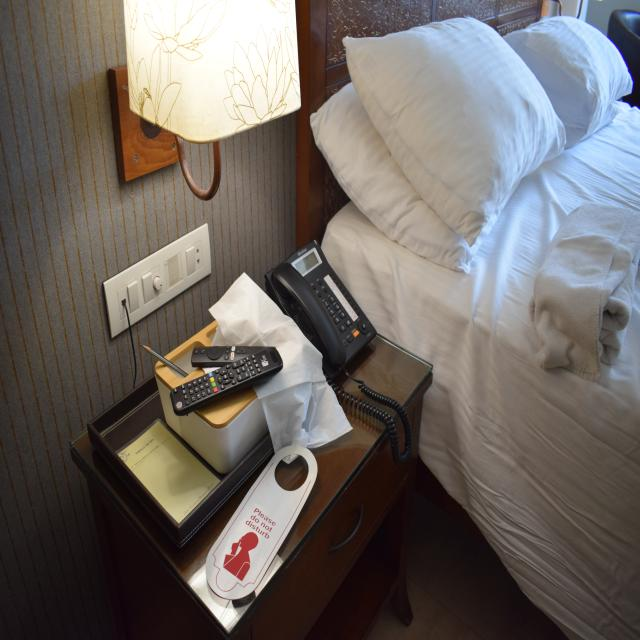mess: (353, 0, 640, 484), (74, 234, 433, 582)
